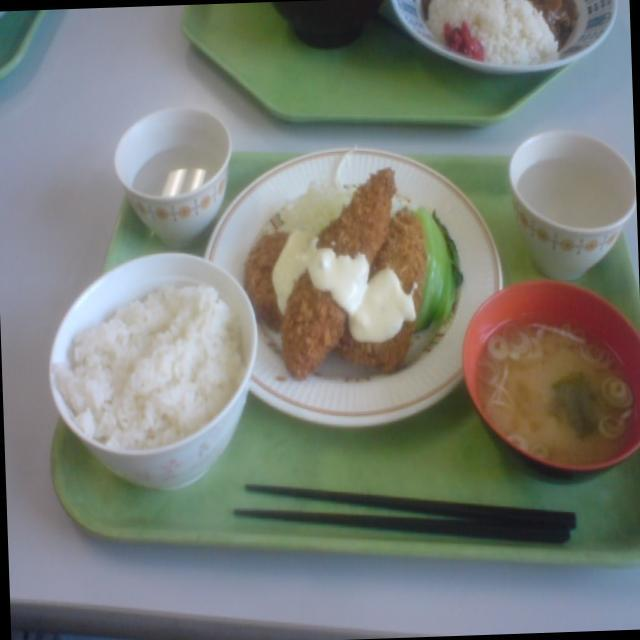Rice: (70, 248, 240, 467)
